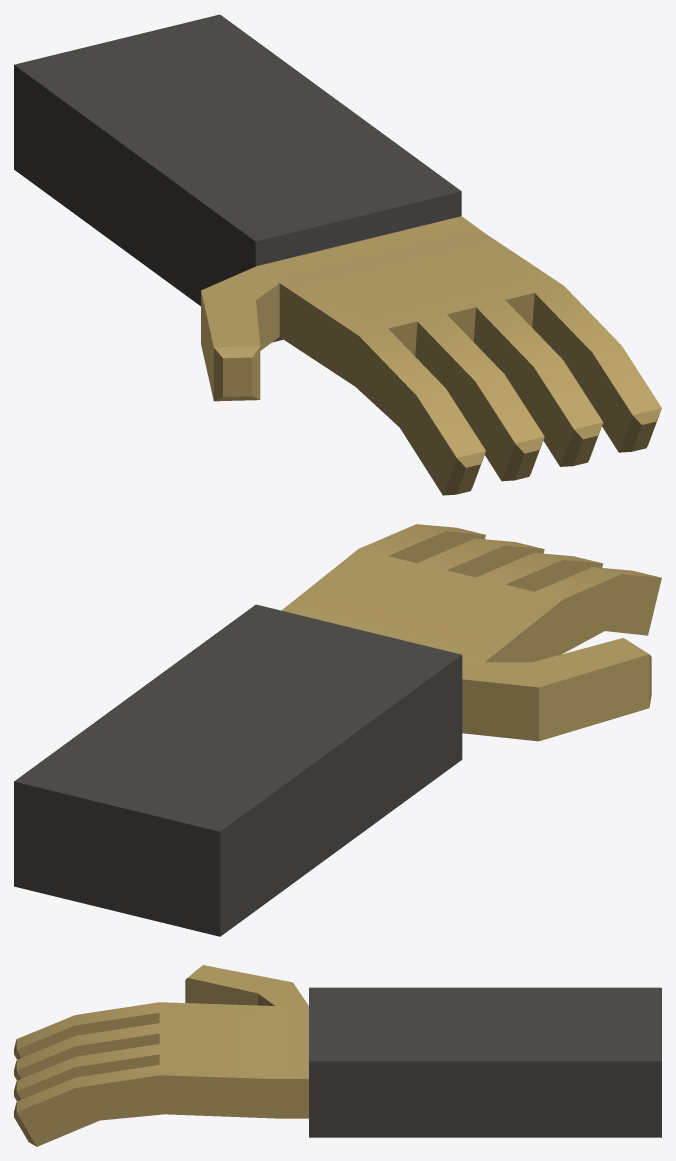
Rendered from the_hand.fbx.
The picture shows the model from 3 angles, top to bottom: view 1: azimuth 30°, elevation 25°; view 2: azimuth 150°, elevation 25°; view 3: azimuth 270°, elevation 25°; orthographic projection. The views are drawn at different scales.
Parts seen in each view (by area): view 1: pCube2, pCube3; view 2: pCube2, pCube3; view 3: pCube2, pCube3.
Part boxes in pixels (x1,y1,x2,y2): pCube2: (14,14,461,342); pCube3: (201,216,661,495); pCube2: (14,604,462,936); pCube3: (281,524,661,741); pCube2: (309,987,661,1137); pCube3: (14,965,308,1146).
Bounding box in the file's own units: 5.12 × 1.8 × 12.29.
